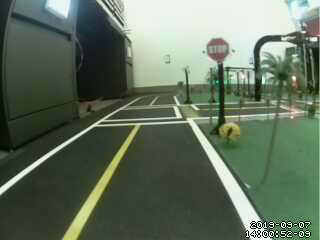Stop_Sign: (203, 36, 235, 65)
